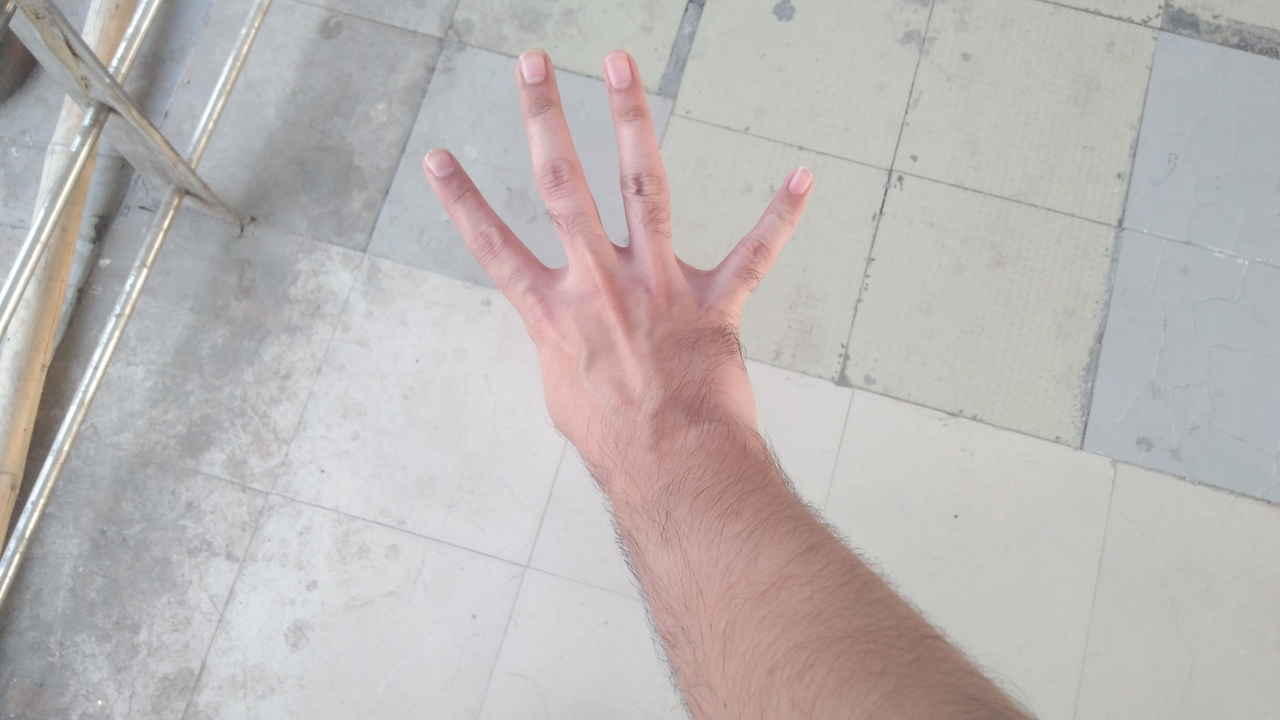fingertip: (408, 136, 470, 186), (508, 42, 562, 88), (594, 42, 648, 88), (772, 156, 822, 202)
